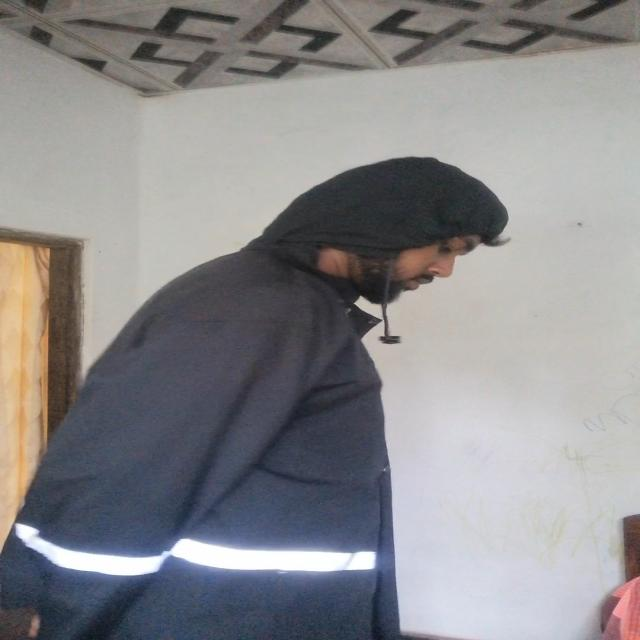Jacket_Wearer: (23, 143, 506, 640)
